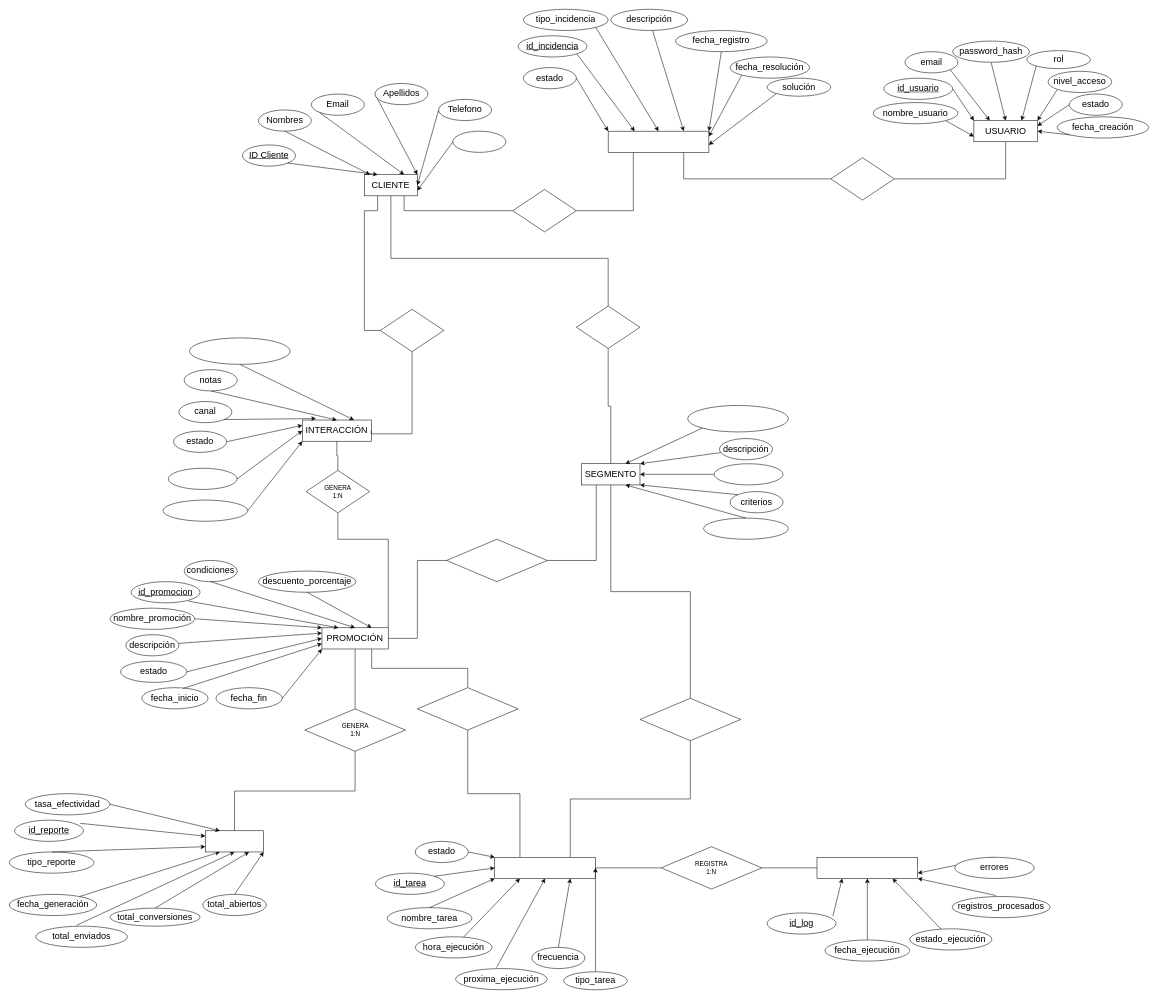
Image size: 1158x999. Some labels were removed from this diagram. Here are the shapes that lost their labels. From the top down, the box of each, then its label:
(452, 131, 506, 152): Dirección
(608, 131, 709, 152): INCIDENCIA
(830, 157, 894, 200): RESUELVE 1:N
(512, 189, 576, 232): REPORTA 1:N
(380, 309, 444, 352): REGISTRA N:1
(576, 306, 640, 348): PERTENECE N:1
(189, 337, 290, 364): fecha_de_interacción
(687, 405, 788, 432): fecha_de_creación
(168, 468, 237, 489): id_interacción
(714, 463, 783, 485): id_segmento
(162, 500, 248, 521): tipo_interacción
(703, 518, 788, 539): nombre_segmento
(446, 539, 547, 582): TIENE ASIGNADA N:1
(417, 687, 518, 730): ACTIVA 1:N
(639, 698, 741, 741): CONFIGURA PARA 1:N
(205, 830, 264, 852): REPORTE
(494, 857, 595, 878): TAREA_AUTOMÁTICA
(816, 857, 918, 878): LOG_EJECUCIÓN
